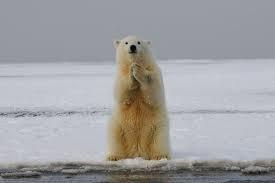bear: (107, 35, 171, 162)
